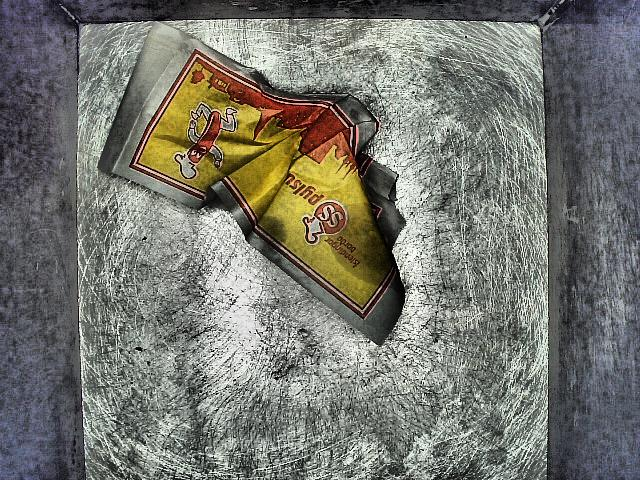Paper: (89, 15, 415, 364)
